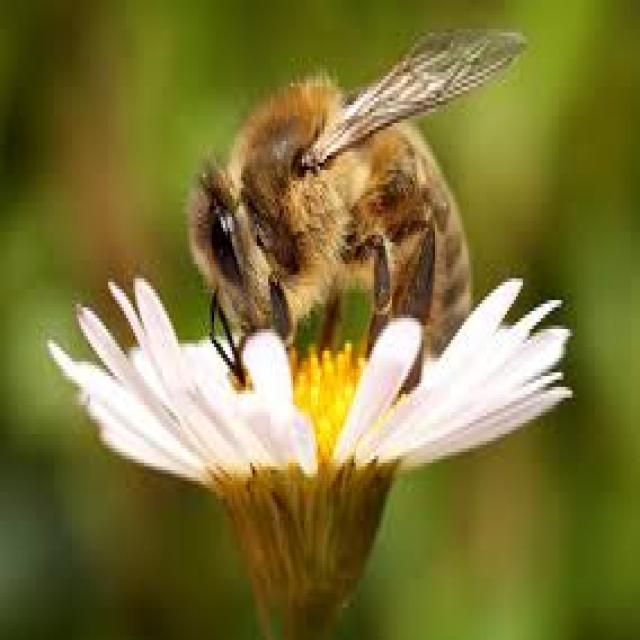Bees: (184, 26, 529, 384)
